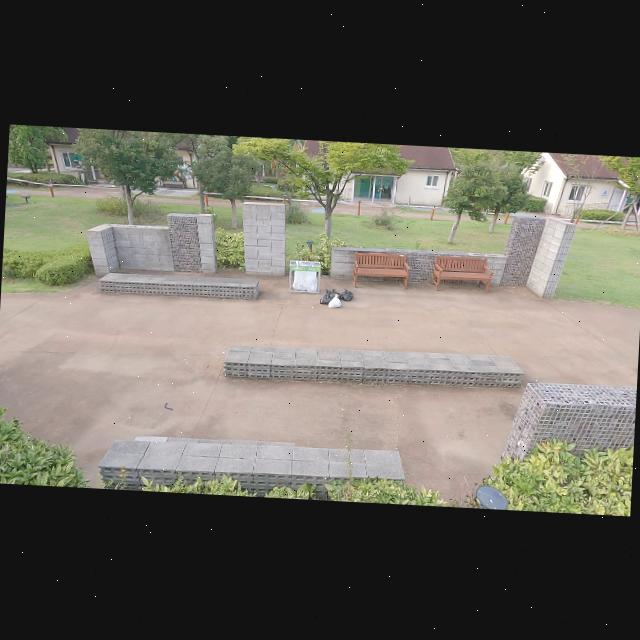trash: (340, 288, 355, 303), (328, 294, 342, 310), (329, 288, 344, 302), (320, 287, 331, 305)
